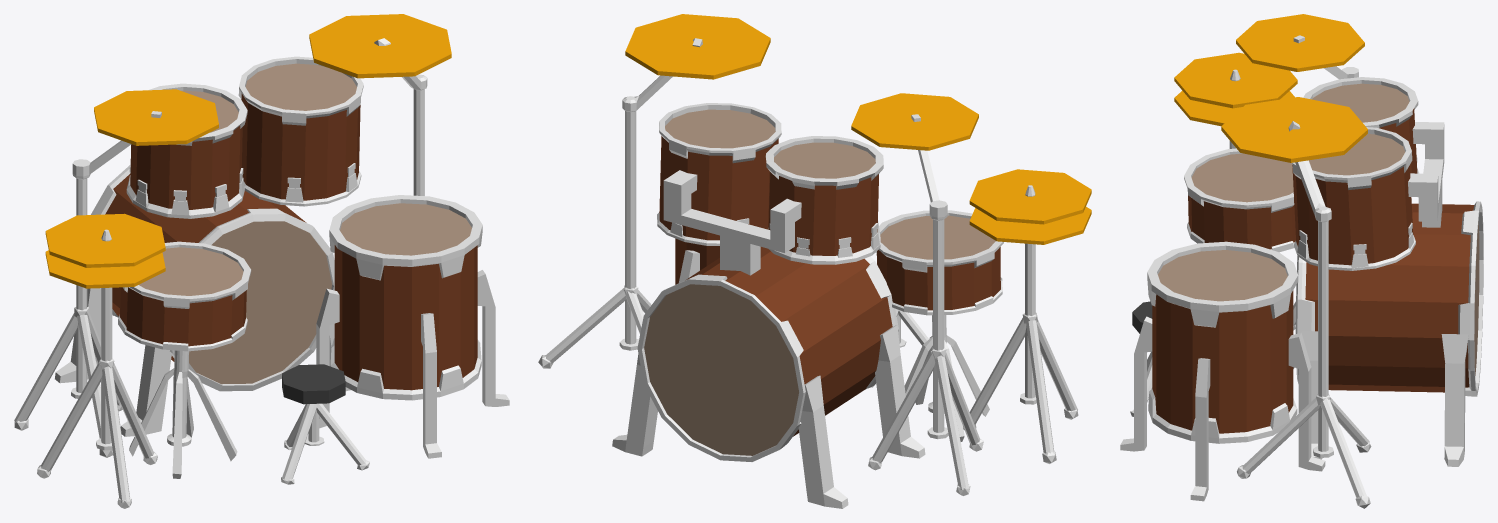
The model's file is Bateria.fbx.
3 renders of one model, left to right at view 1: azimuth 30°, elevation 25°; view 2: azimuth 150°, elevation 25°; view 3: azimuth 270°, elevation 25°, orthographic.
Visible parts, largest first — view 1: Cylinder.044, Cylinder.041, Cylinder.043, Cylinder.045, Cylinder.042, Cylinder.062, Cylinder.047, Cylinder.063, Cylinder.064, Cylinder.053, Cube.027, Cylinder.061 (+5 smaller); view 2: Cylinder.041, Cylinder.043, Cylinder.042, Cylinder.045, Cube.027, Cylinder.053, Cylinder.062, Cube.028, Cylinder.063, Cylinder.047, Cylinder.057, Cylinder.064 (+3 smaller); view 3: Cylinder.044, Cylinder.041, Cylinder.043, Cylinder.045, Cylinder.062, Cylinder.057, Cylinder.063, Cylinder.064, Cylinder.042, Cube.027, Cube.028, Cylinder.065 (+3 smaller).
Part boxes in pixels (box(x1,y1,x2,y2)): Cylinder.044: box(316, 195, 509, 458); Cylinder.041: box(91, 165, 334, 391); Cylinder.043: box(238, 56, 363, 206); Cylinder.045: box(118, 241, 251, 478); Cylinder.042: box(126, 83, 247, 218); Cylinder.062: box(309, 14, 451, 78); Cylinder.047: box(37, 229, 157, 508); Cylinder.063: box(94, 89, 218, 145); Cylinder.064: box(45, 213, 165, 267); Cylinder.053: box(14, 111, 161, 457); Cube.027: box(55, 288, 350, 436); Cylinder.061: box(282, 364, 345, 445); Cylinder.041: box(637, 247, 898, 461); Cylinder.043: box(657, 103, 781, 245); Cylinder.042: box(765, 136, 883, 264); Cylinder.045: box(876, 210, 1003, 441); Cube.027: box(612, 325, 925, 508); Cylinder.053: box(868, 114, 983, 495); Cylinder.062: box(625, 14, 770, 79); Cube.028: box(663, 170, 801, 275); Cylinder.063: box(851, 93, 978, 150); Cylinder.047: box(963, 185, 1078, 463); Cylinder.057: box(538, 38, 702, 368); Cylinder.064: box(969, 169, 1091, 224); Cylinder.044: box(1120, 241, 1325, 501); Cylinder.041: box(1295, 201, 1483, 396); Cylinder.043: box(1292, 127, 1415, 270); Cylinder.045: box(1184, 148, 1295, 368); Cylinder.062: box(1221, 97, 1367, 162); Cylinder.057: box(1237, 121, 1371, 508); Cylinder.063: box(1236, 14, 1364, 71); Cylinder.064: box(1174, 52, 1297, 108); Cylinder.042: box(1303, 77, 1419, 173); Cube.027: box(1301, 331, 1468, 466); Cube.028: box(1408, 122, 1444, 227); Cylinder.065: box(1174, 90, 1294, 126).
Bounding box in the file's own units: 1321 × 914 × 876.
